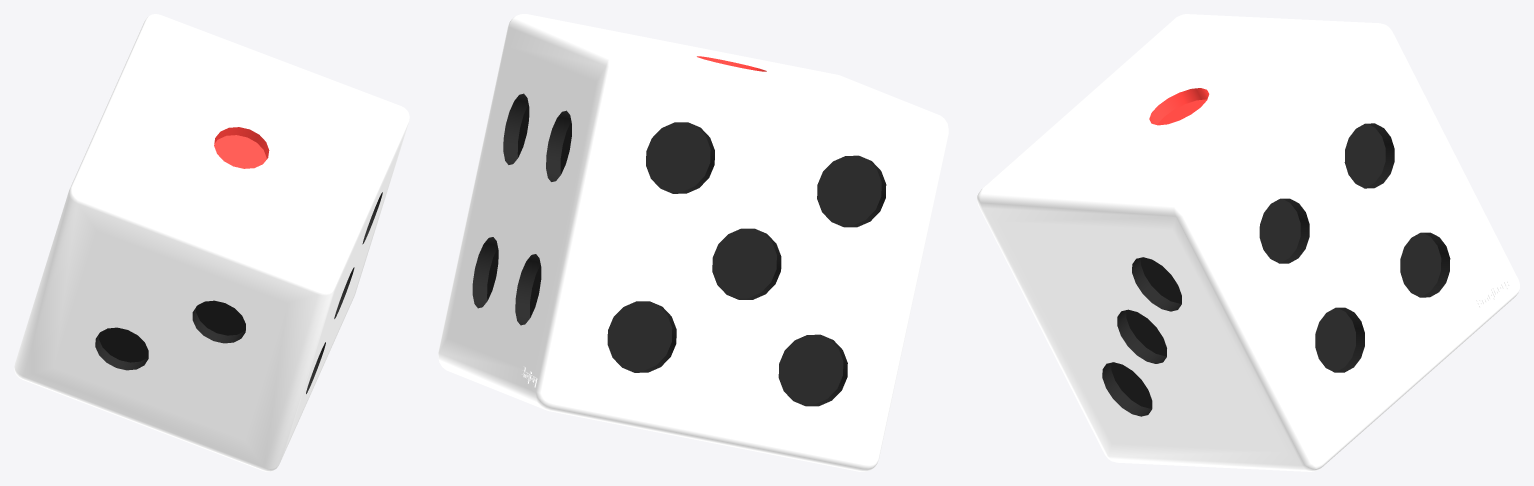
Rendered from game_die.gltf.
The picture shows the model from 3 angles, left to right: view 1: azimuth 30°, elevation 25°; view 2: azimuth 150°, elevation 25°; view 3: azimuth 270°, elevation 25°; orthographic projection. The views are drawn at different scales.
Parts seen in each view (by area): view 1: Plane.317; view 2: Plane.317; view 3: Plane.317.
Boxes of the visible parts, x1,y1,x2,y2 form: Plane.317: [14, 14, 409, 471]; Plane.317: [438, 14, 948, 471]; Plane.317: [977, 14, 1519, 471].
Bounding box in the file's own units: 1.96 × 2.07 × 2.34.
Materials: 1 (1 with a texture image).
